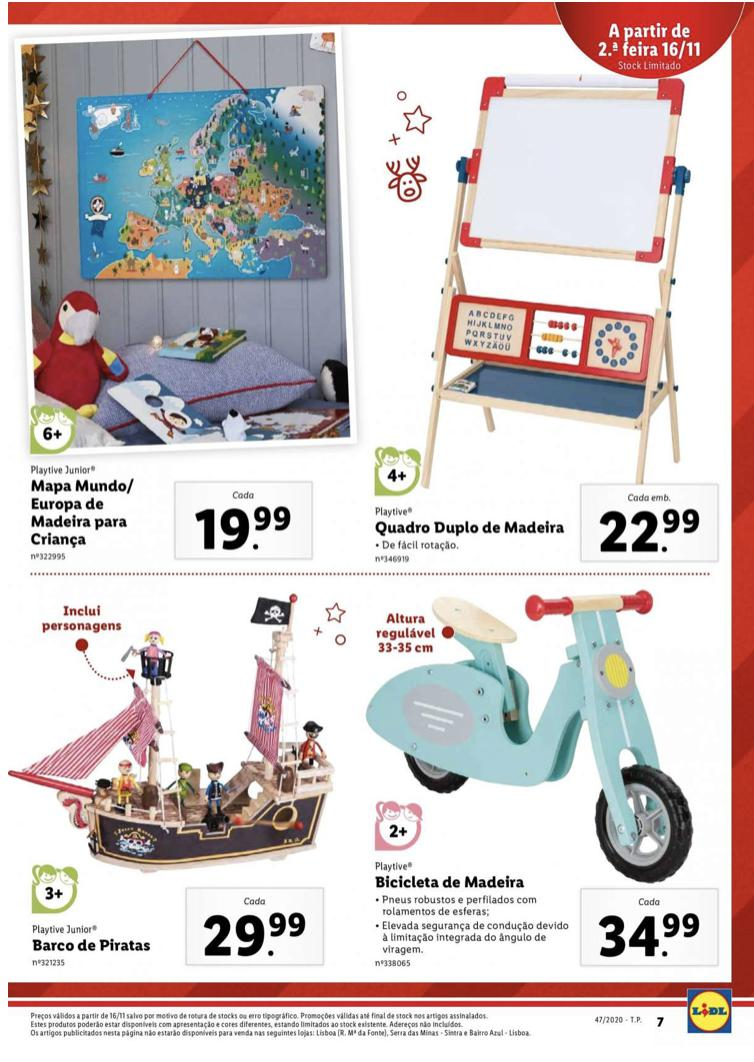name: (29, 474, 137, 549), (375, 515, 570, 537), (374, 870, 529, 894), (29, 936, 157, 958)
price: (190, 502, 302, 561), (595, 502, 702, 558), (198, 906, 306, 960), (596, 908, 703, 961)
product: (2, 37, 361, 566), (366, 61, 721, 560), (362, 589, 727, 974), (11, 587, 352, 974)
